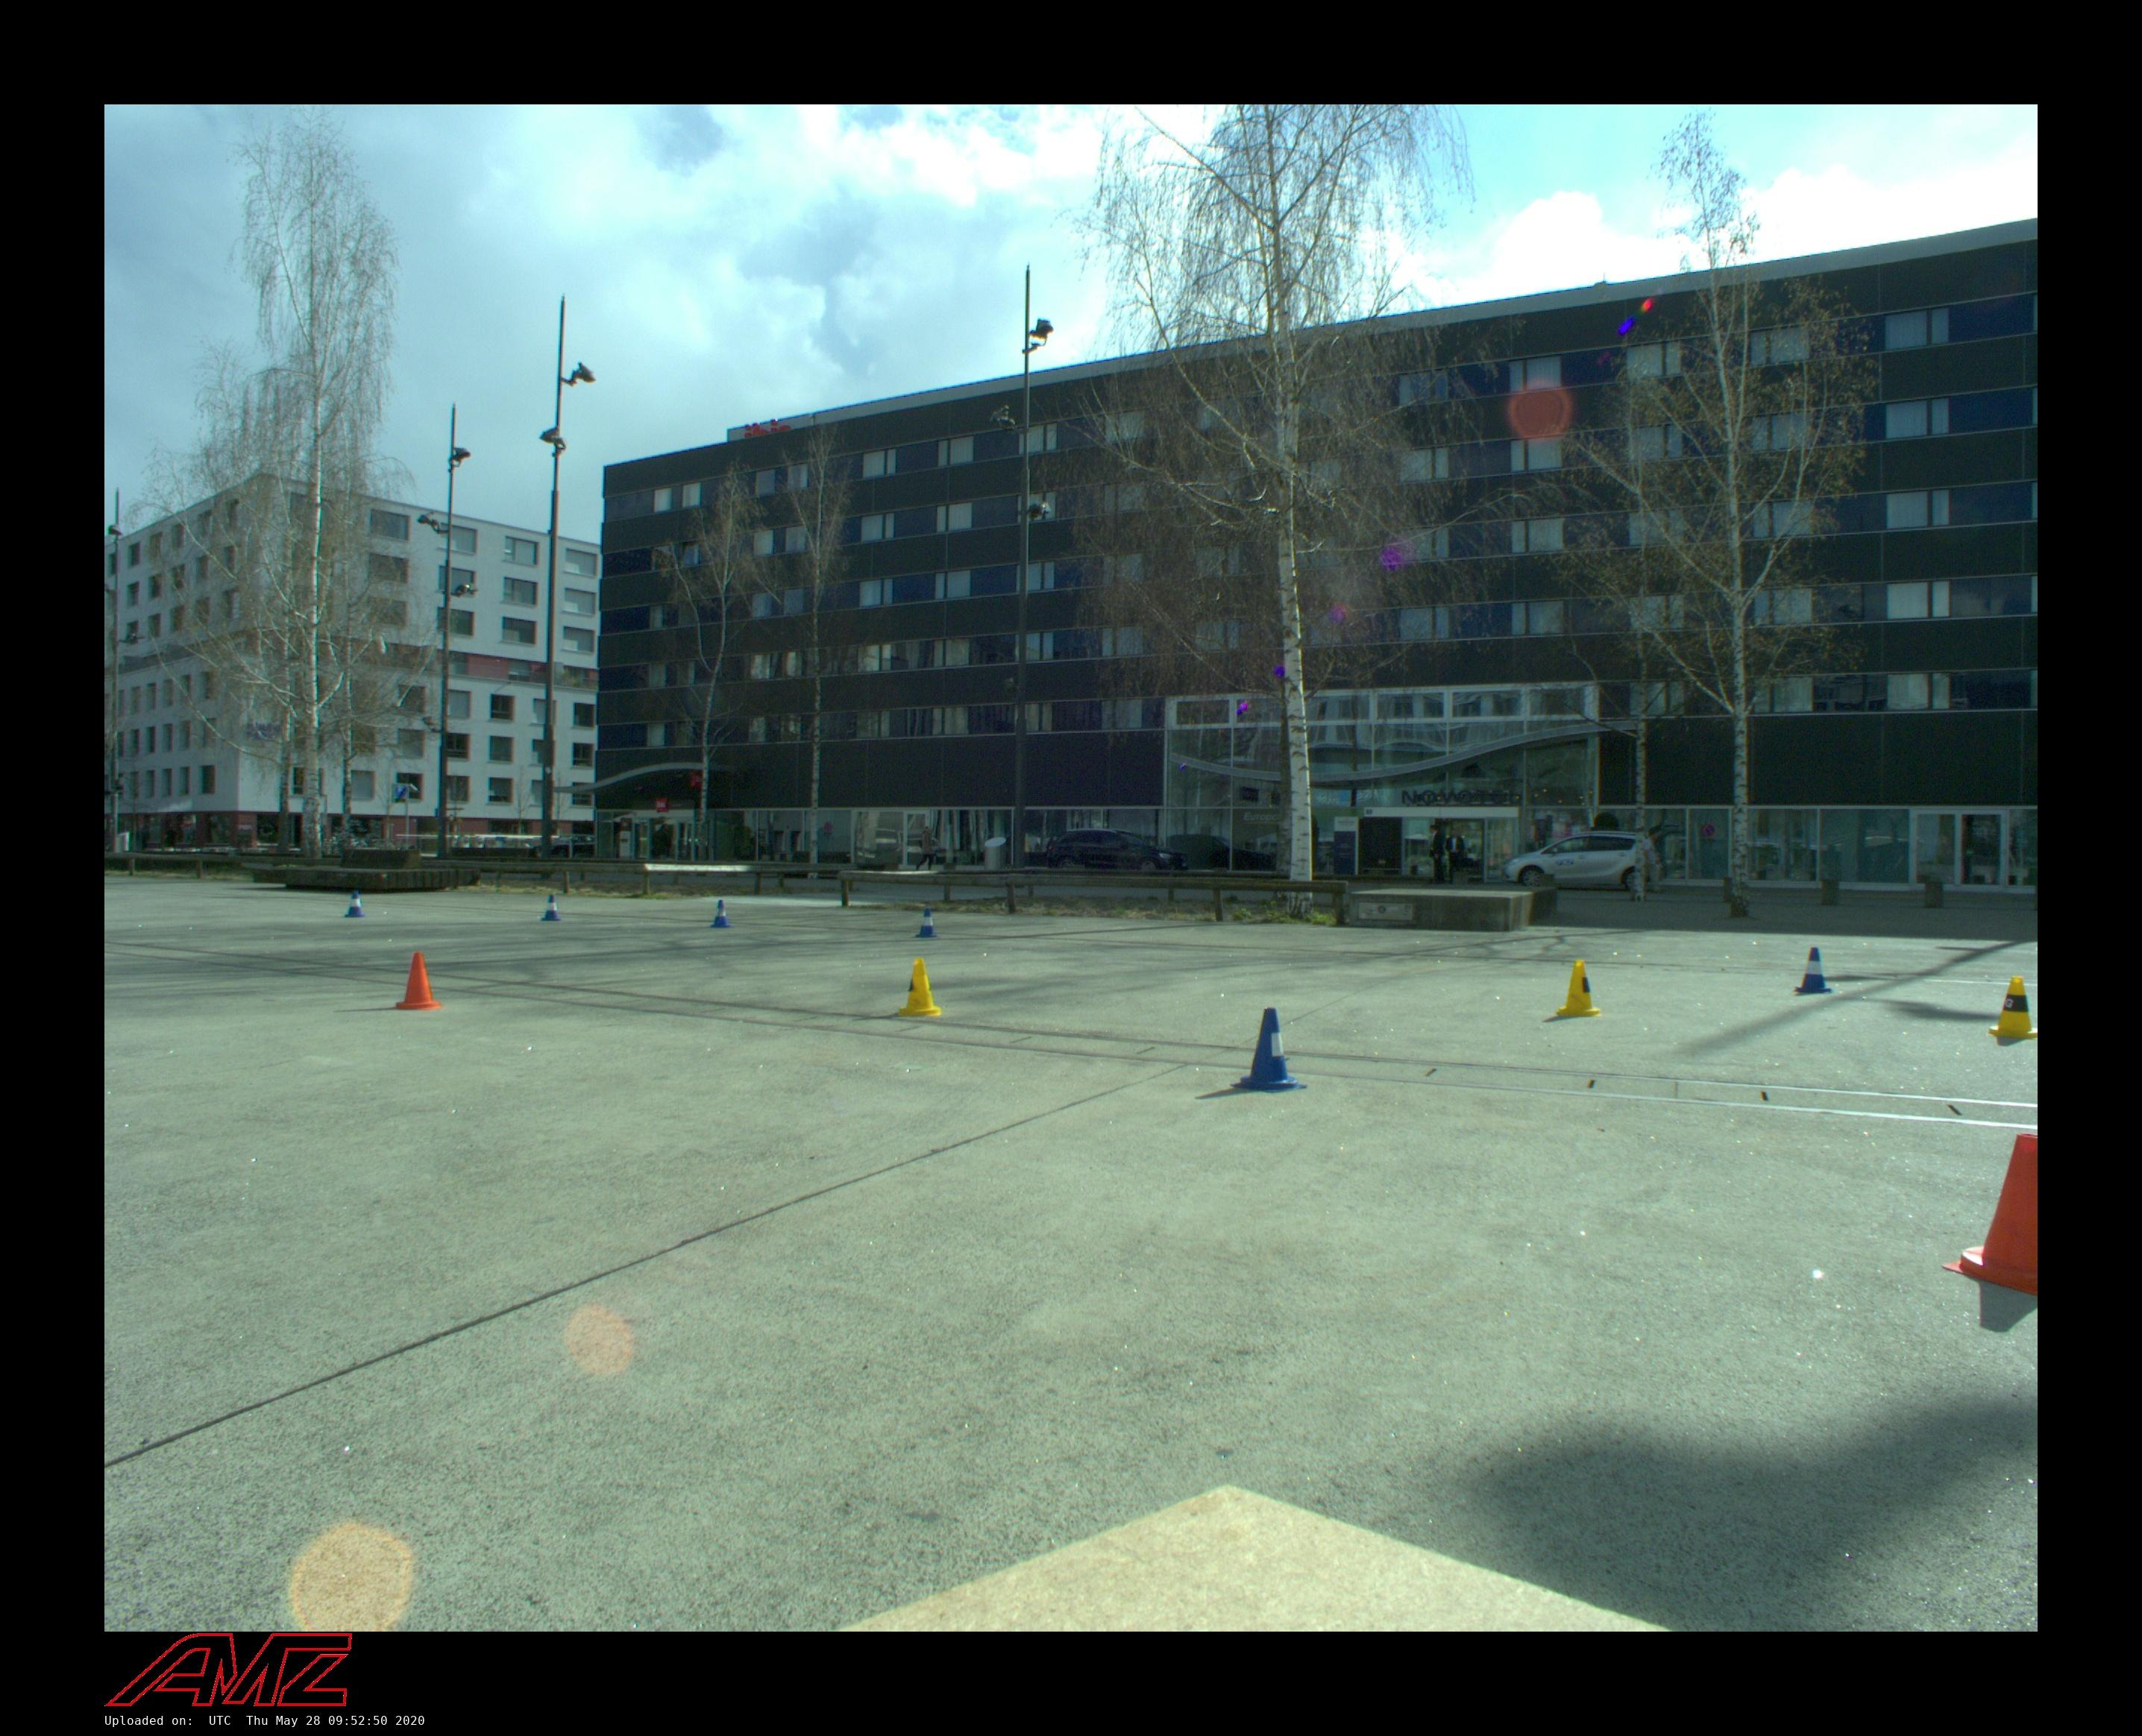blue_cone: (1231, 1006, 1308, 1095), (1795, 946, 1834, 992), (710, 900, 733, 928), (916, 909, 937, 937), (344, 891, 365, 918), (542, 895, 562, 921)
orange_cone: (1940, 1132, 2037, 1297), (395, 951, 443, 1010)
yellow_cone: (1988, 974, 2037, 1040), (1557, 960, 1602, 1017), (898, 958, 941, 1017)
